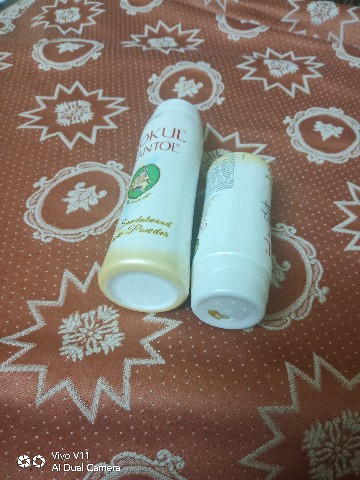gokulsantol big: (92, 91, 201, 324)
gokulsantol small: (185, 147, 292, 334)
